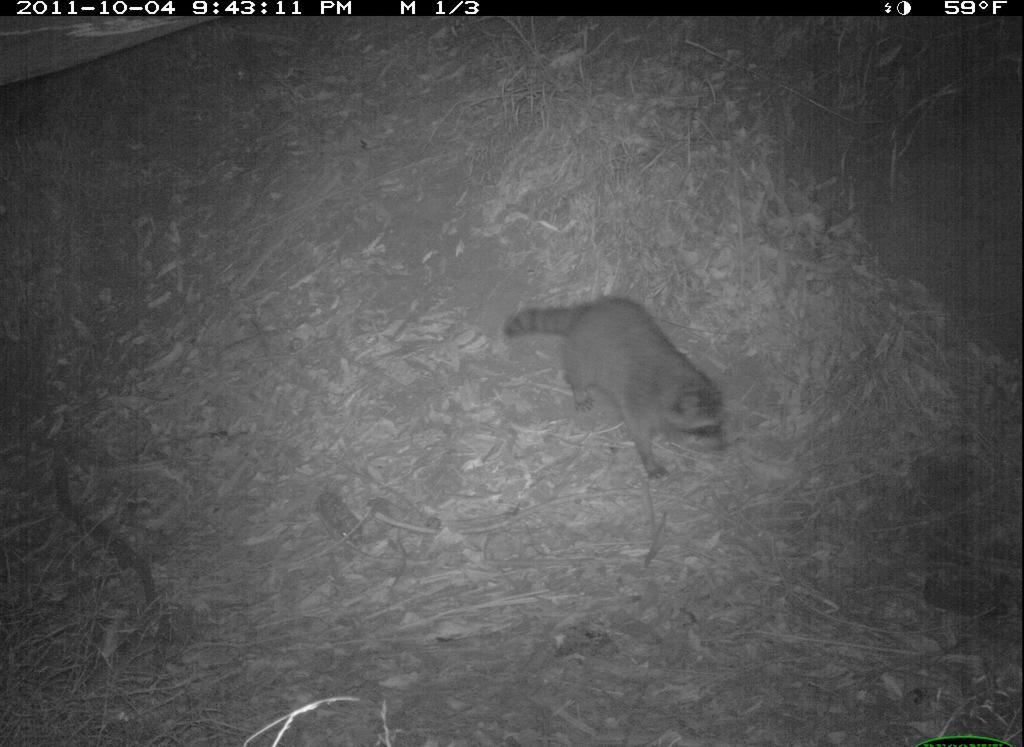raccoon: (497, 292, 747, 489)
